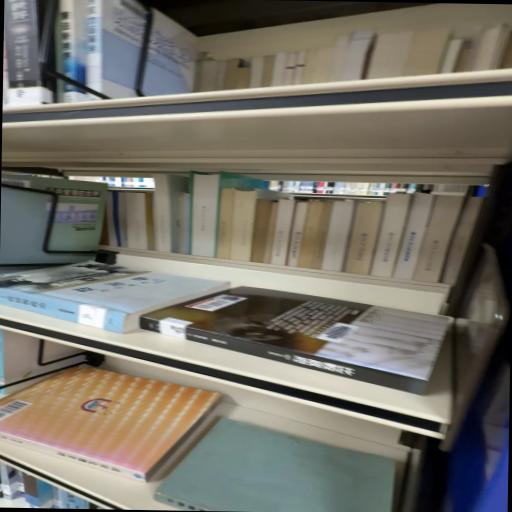flat: (141, 288, 451, 396), (1, 366, 223, 482), (155, 419, 396, 512), (1, 262, 231, 334)
